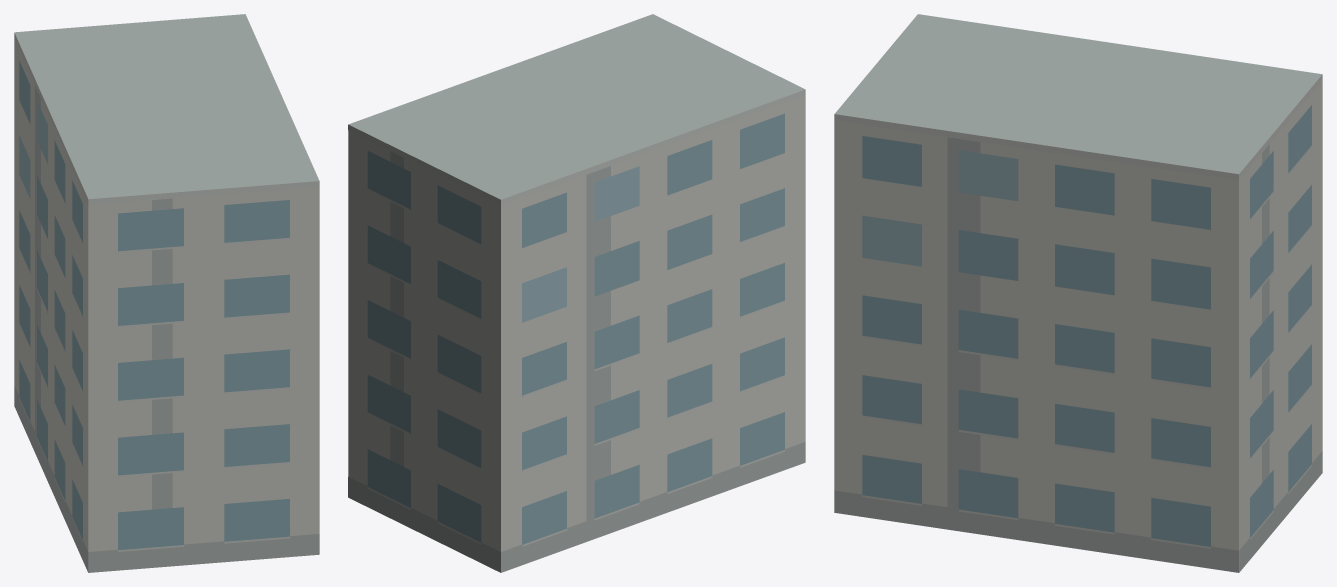
The model's file is residential-41b4b625-8a68-423d-9d53-03d95bba945c.glb.
3 renders of one model, left to right at view 1: azimuth 30°, elevation 25°; view 2: azimuth 150°, elevation 25°; view 3: azimuth 270°, elevation 25°, orthographic. The views are drawn at different scales.
Visible parts, largest first — view 1: residential-41b4b625-8a68-423d-9d53-03d95bba945c.tmp; view 2: residential-41b4b625-8a68-423d-9d53-03d95bba945c.tmp; view 3: residential-41b4b625-8a68-423d-9d53-03d95bba945c.tmp.
Boxes of the visible parts, <box> form: residential-41b4b625-8a68-423d-9d53-03d95bba945c.tmp: <box>14,14,319,572</box>; residential-41b4b625-8a68-423d-9d53-03d95bba945c.tmp: <box>348,14,805,572</box>; residential-41b4b625-8a68-423d-9d53-03d95bba945c.tmp: <box>834,14,1322,572</box>.
Bounding box in the file's own units: 13.15 × 15.25 × 16.93.
